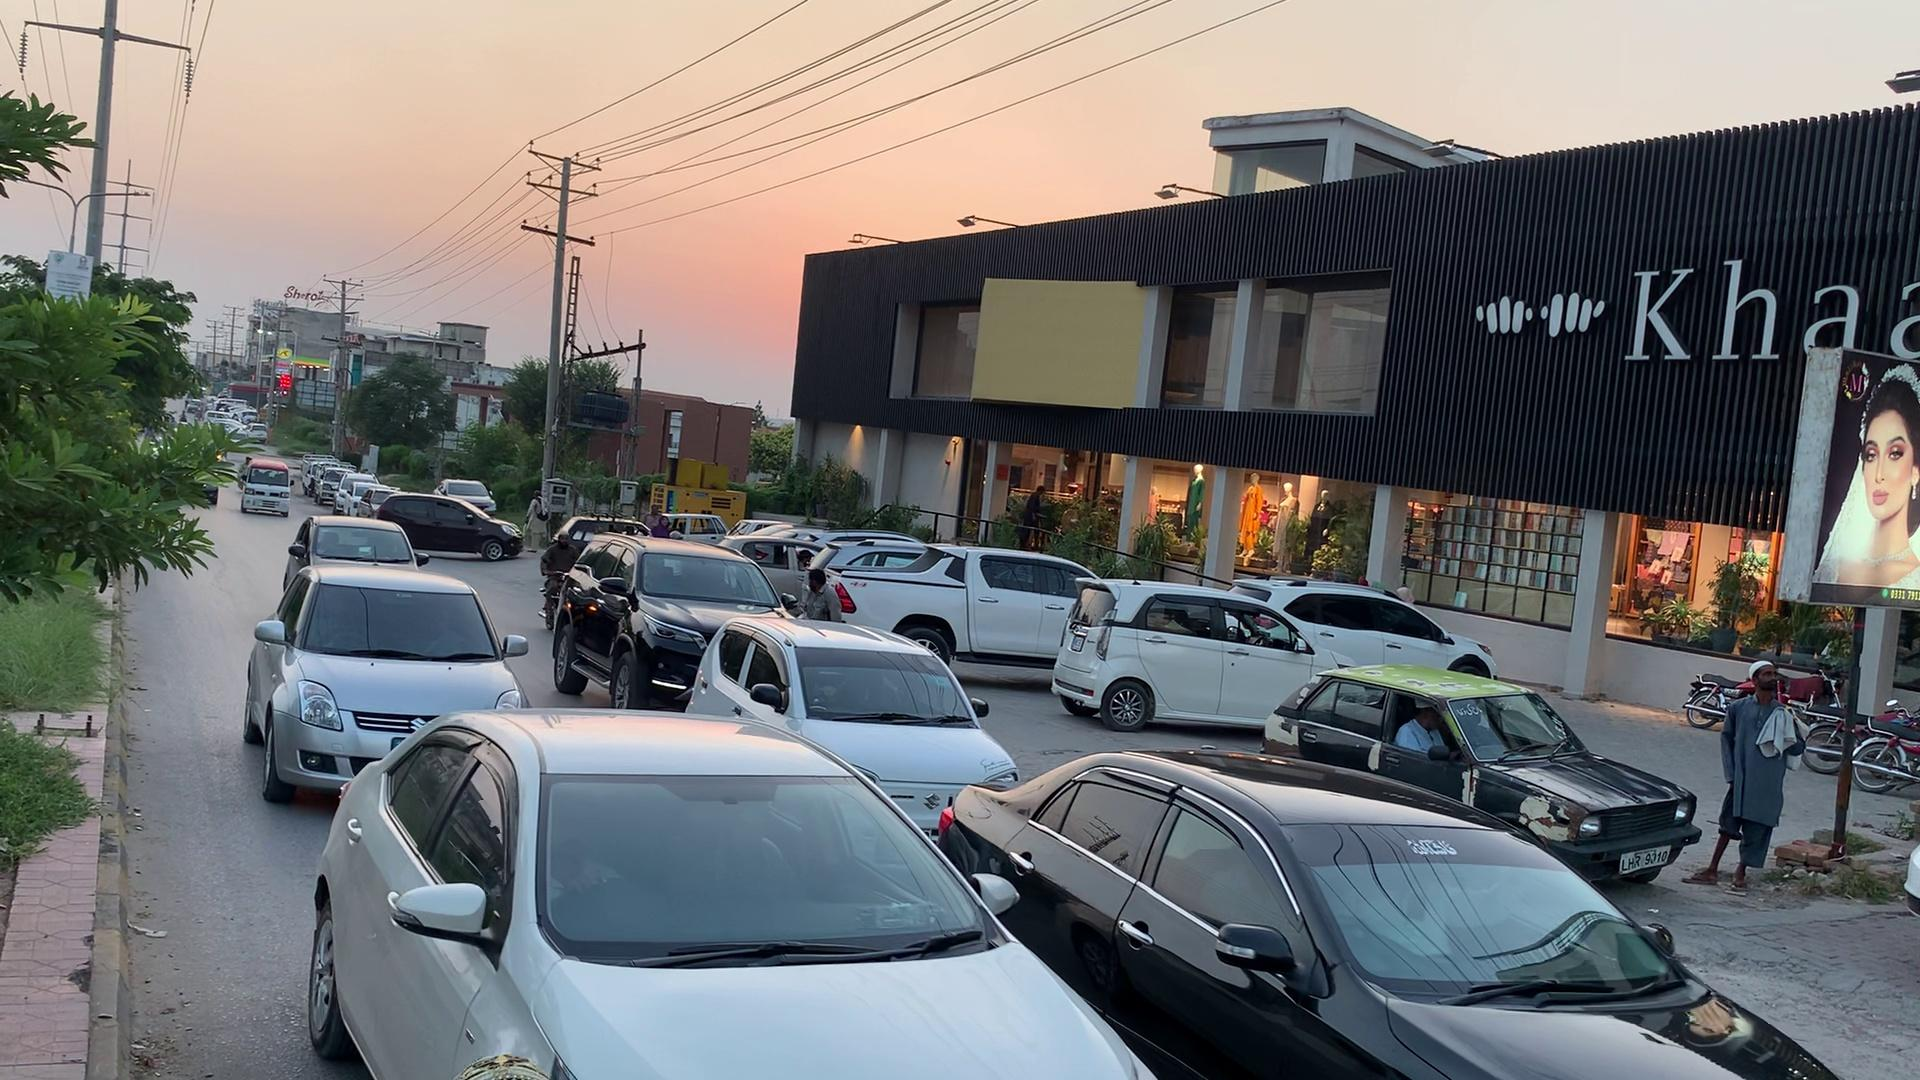windshield: (541, 760, 1014, 984), (1251, 800, 1706, 1010)
